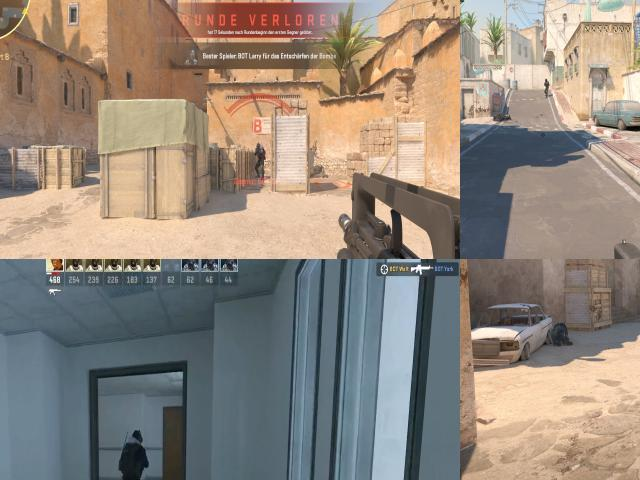CT: (117, 424, 144, 480), (254, 142, 265, 178), (544, 78, 550, 96)
CT-Head: (128, 424, 142, 451), (256, 142, 260, 149), (545, 80, 547, 82)
Dead: (554, 324, 574, 350), (494, 113, 510, 121)
